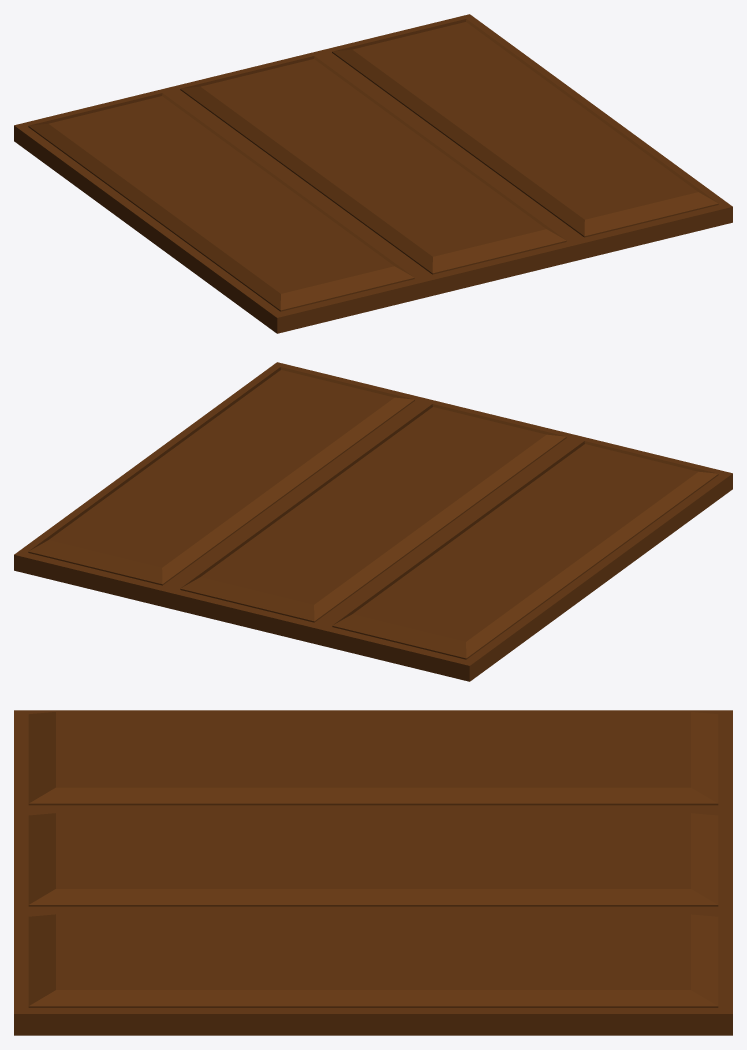
File: FarmLand.fbx
The picture shows the model from 3 angles, top to bottom: view 1: azimuth 30°, elevation 25°; view 2: azimuth 150°, elevation 25°; view 3: azimuth 270°, elevation 25°; orthographic projection. The views are drawn at different scales.
Parts seen in each view (by area): view 1: FarmLand; view 2: FarmLand; view 3: FarmLand.
Boxes of the visible parts, x1,y1,x2,y2 form: FarmLand: (14,14,732,333); FarmLand: (14,362,732,681); FarmLand: (14,710,732,1035).
Bounding box in the file's own units: 600 × 30.24 × 600.
